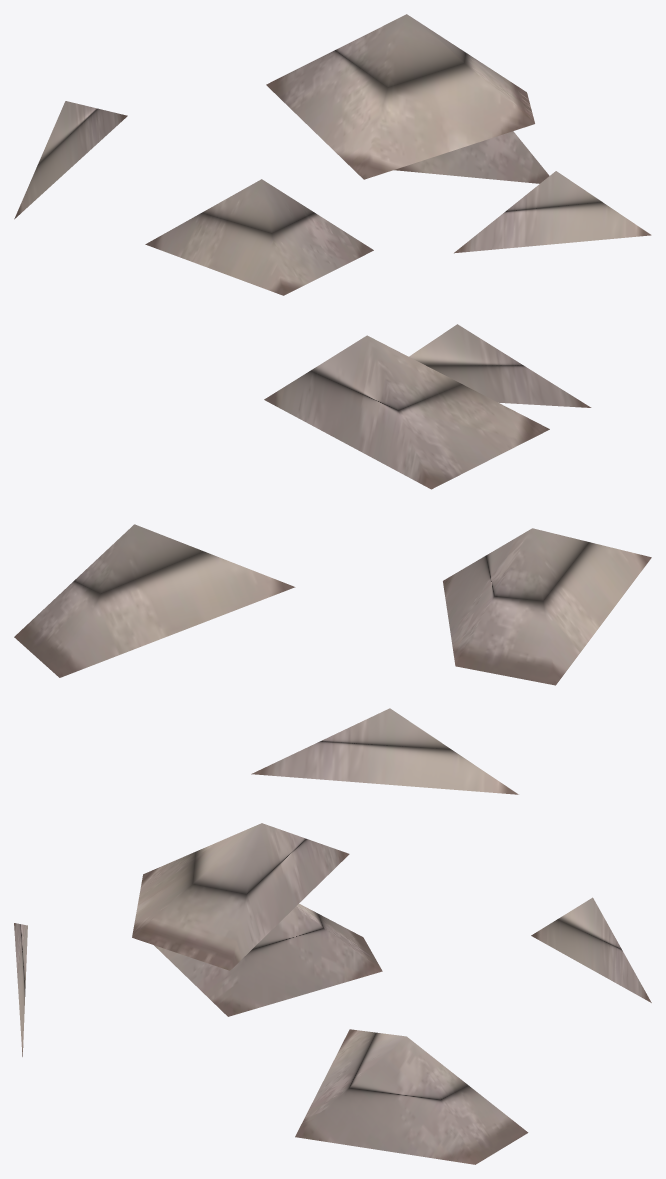
Rendered from mushroom.glb.
3 views of the same model, one above another, from view 1: azimuth 30°, elevation 25°; view 2: azimuth 150°, elevation 25°; view 3: azimuth 270°, elevation 25° (orthographic). The views are drawn at different scales.
Parts seen in each view (by area): view 1: Mushroom_Common; view 2: Mushroom_Common; view 3: Mushroom_Common.
Part boxes in pixels (x1,y1,x2,y2): Mushroom_Common: (14,14,651,295); Mushroom_Common: (14,324,651,794); Mushroom_Common: (14,823,651,1164).
Size of the model in its own units: 0.5137 by 0.2514 by 0.5949.
1 material, 1 textured.
